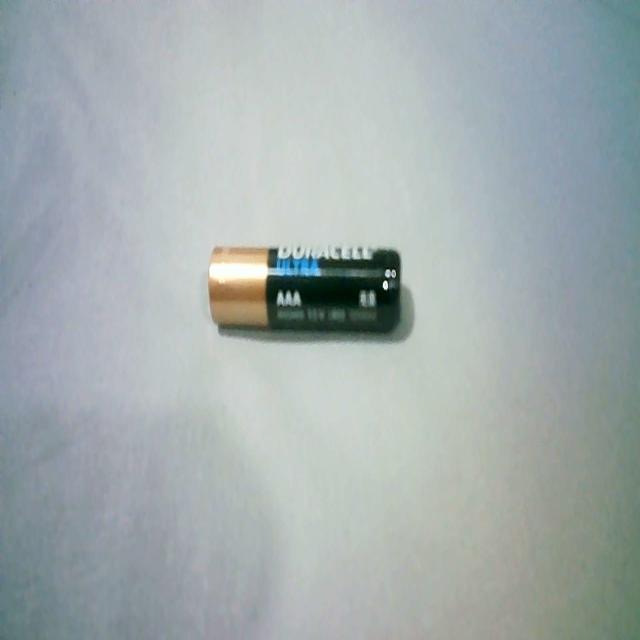AAA: (203, 235, 407, 352)
